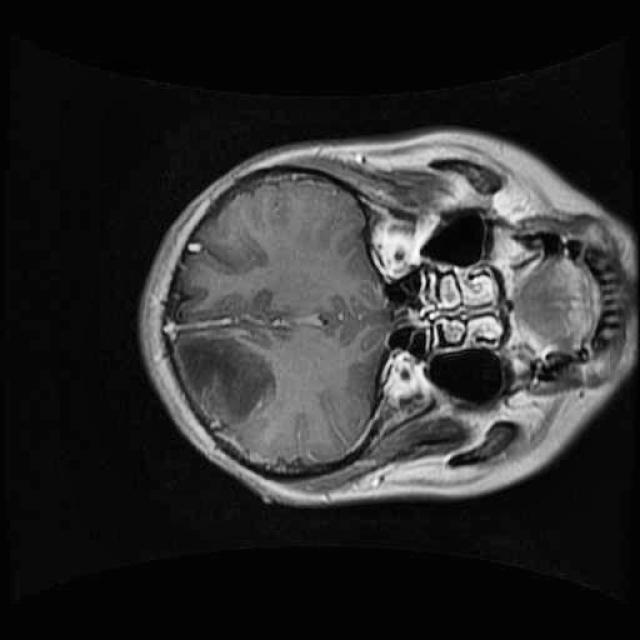Tumor: (160, 312, 300, 447)
